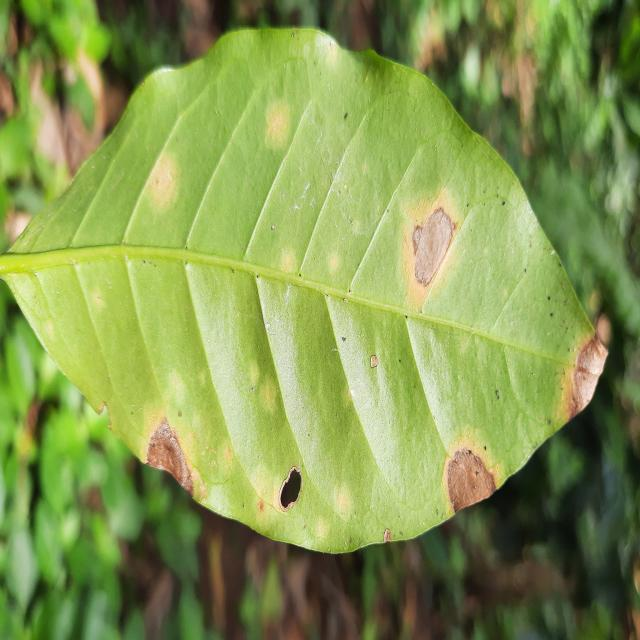Enfermedad-Mancha-de-hierro: (0, 28, 601, 557)
